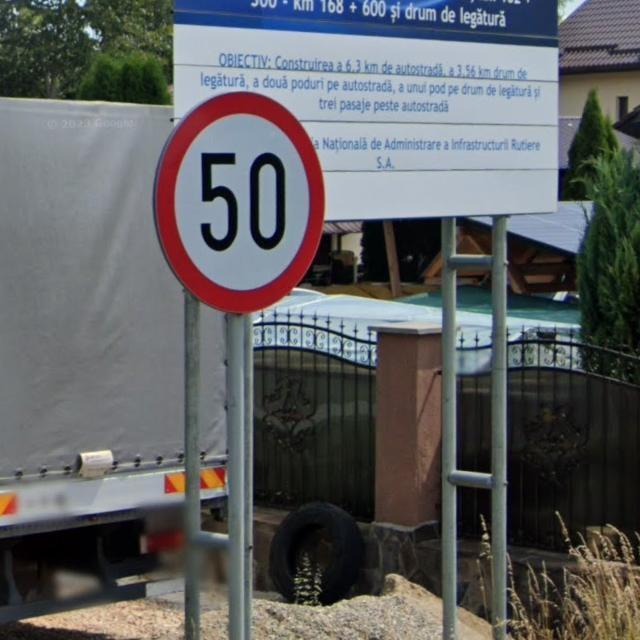forb_speed_over_50: (153, 90, 325, 317)
